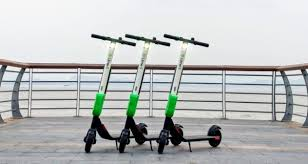kick_body: (181, 134, 208, 140)
kick_handler: (124, 33, 170, 49), (92, 34, 137, 48), (165, 35, 208, 48)
kick_neck: (93, 47, 114, 115), (129, 49, 147, 115), (169, 50, 187, 115)
kick_wheel: (118, 131, 131, 153), (209, 129, 222, 147), (86, 130, 96, 151), (157, 132, 167, 152)
